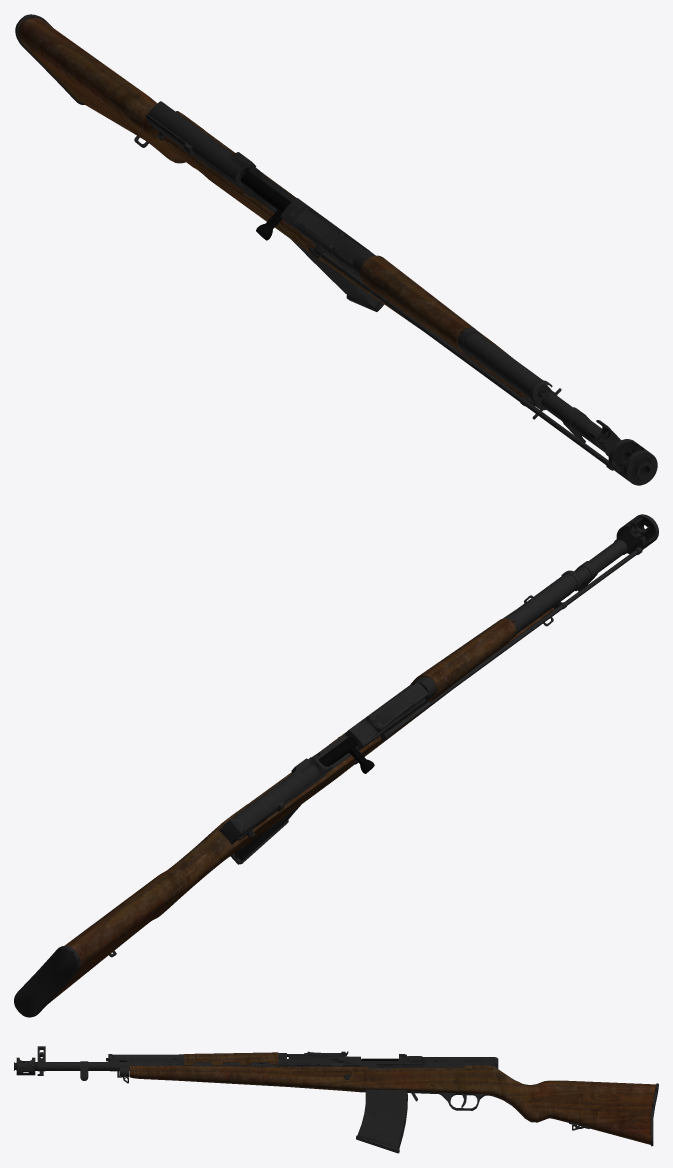
File: AVS36.fbx
3 views of the same model, one above another, from view 1: azimuth 30°, elevation 25°; view 2: azimuth 150°, elevation 25°; view 3: azimuth 270°, elevation 25° (orthographic). The views are drawn at different scales.
Parts seen in each view (by area): view 1: Cylinder.037_Cylinder.039; view 2: Cylinder.037_Cylinder.039; view 3: Cylinder.037_Cylinder.039.
Boxes of the visible parts, x1,y1,x2,y2 form: Cylinder.037_Cylinder.039: (15, 14, 657, 485); Cylinder.037_Cylinder.039: (14, 514, 658, 1017); Cylinder.037_Cylinder.039: (14, 1046, 658, 1153).
Bounding box in the file's own units: 0.1569 × 0.1754 × 1.26.
